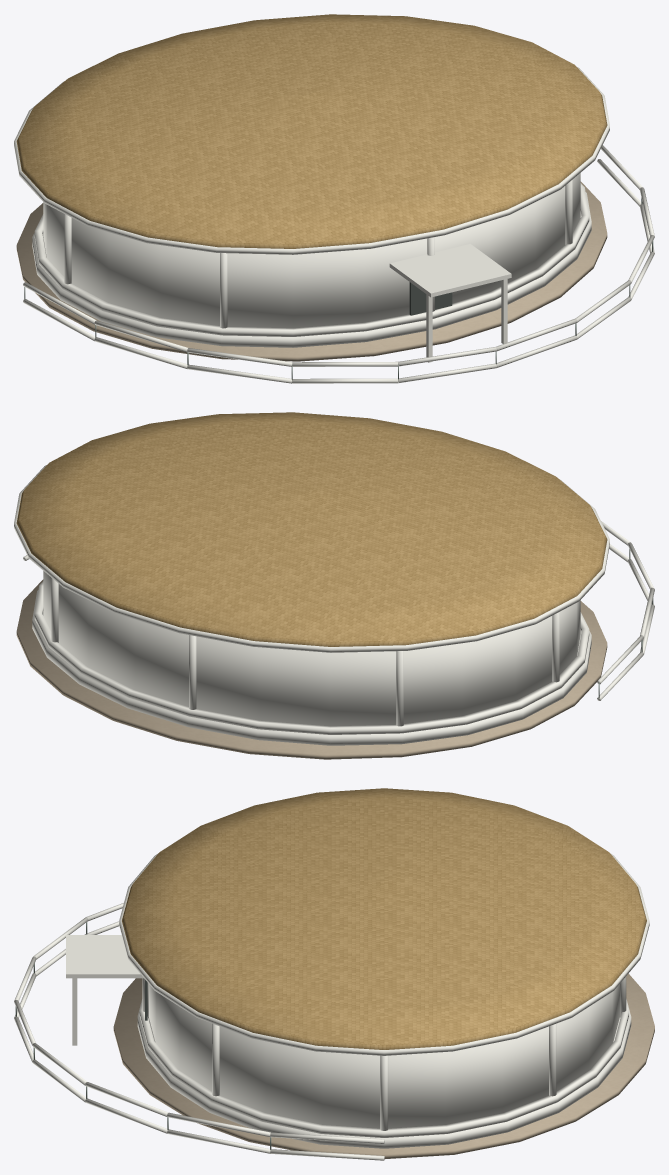
File: long-xuyen-round-annex-lod.glb
3 views of the same model, one above another, from view 1: azimuth 30°, elevation 25°; view 2: azimuth 150°, elevation 25°; view 3: azimuth 270°, elevation 25° (orthographic).
Visible parts, largest first — view 1: Round_annex_LOD_roof, Round_annex_LOD_white, Round_annex_LOD_paving, Round_annex_LOD_dark; view 2: Round_annex_LOD_roof, Round_annex_LOD_white, Round_annex_LOD_paving; view 3: Round_annex_LOD_roof, Round_annex_LOD_white, Round_annex_LOD_paving.
Part boxes in pixels (bbox=[...]): Round_annex_LOD_roof: bbox=[16, 14, 607, 248]; Round_annex_LOD_white: bbox=[14, 67, 654, 383]; Round_annex_LOD_paving: bbox=[16, 181, 607, 361]; Round_annex_LOD_dark: bbox=[409, 282, 452, 315]; Round_annex_LOD_roof: bbox=[16, 412, 607, 646]; Round_annex_LOD_white: bbox=[14, 465, 654, 745]; Round_annex_LOD_paving: bbox=[16, 579, 607, 759]; Round_annex_LOD_roof: bbox=[122, 788, 646, 1049]; Round_annex_LOD_white: bbox=[14, 853, 649, 1160]; Round_annex_LOD_paving: bbox=[113, 973, 654, 1158].
Size of the model in its own units: 30.82 by 7.65 by 29.61.
5 materials, 2 textured.
